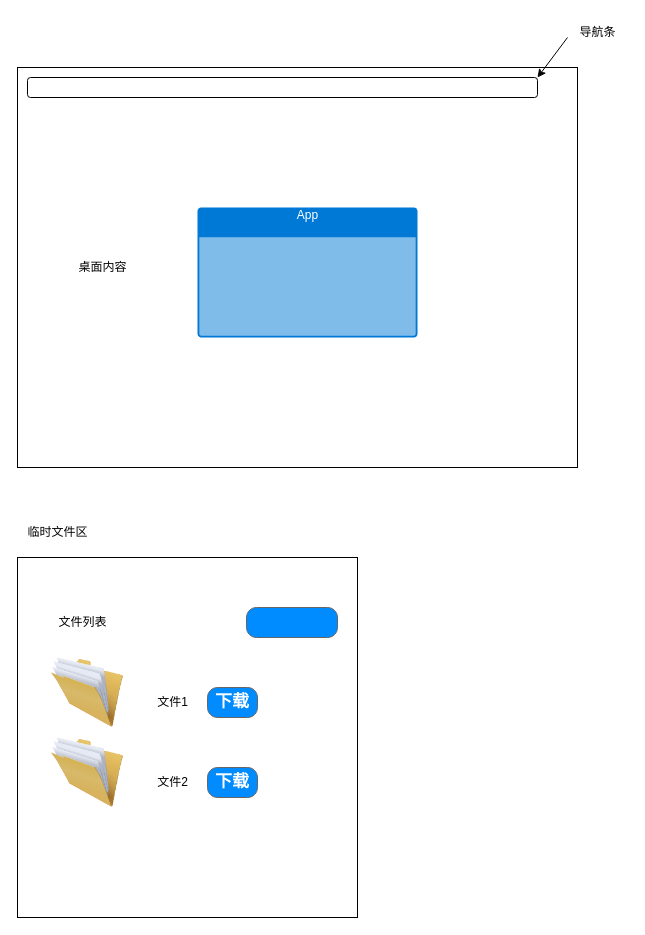
The diagram is 645 pixels wide and 935 high, and some of its shapes have lost their labels. The shapes that lost their labels are listed below. From the top down, each one's centre as x and y in pixels, then its label:
(282,87): 功能1 ｜ 功能2 ｜功能3 ｜ 功能4 ｜...
(292,622): 上传文件
